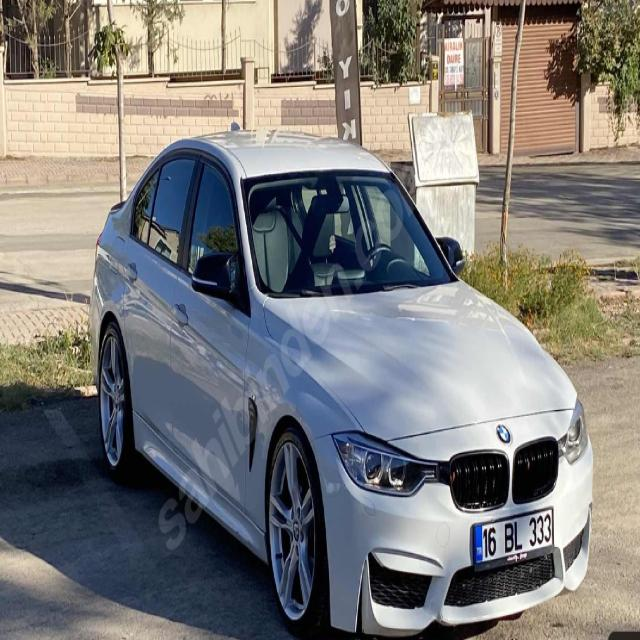bmw: (494, 418, 512, 448)
